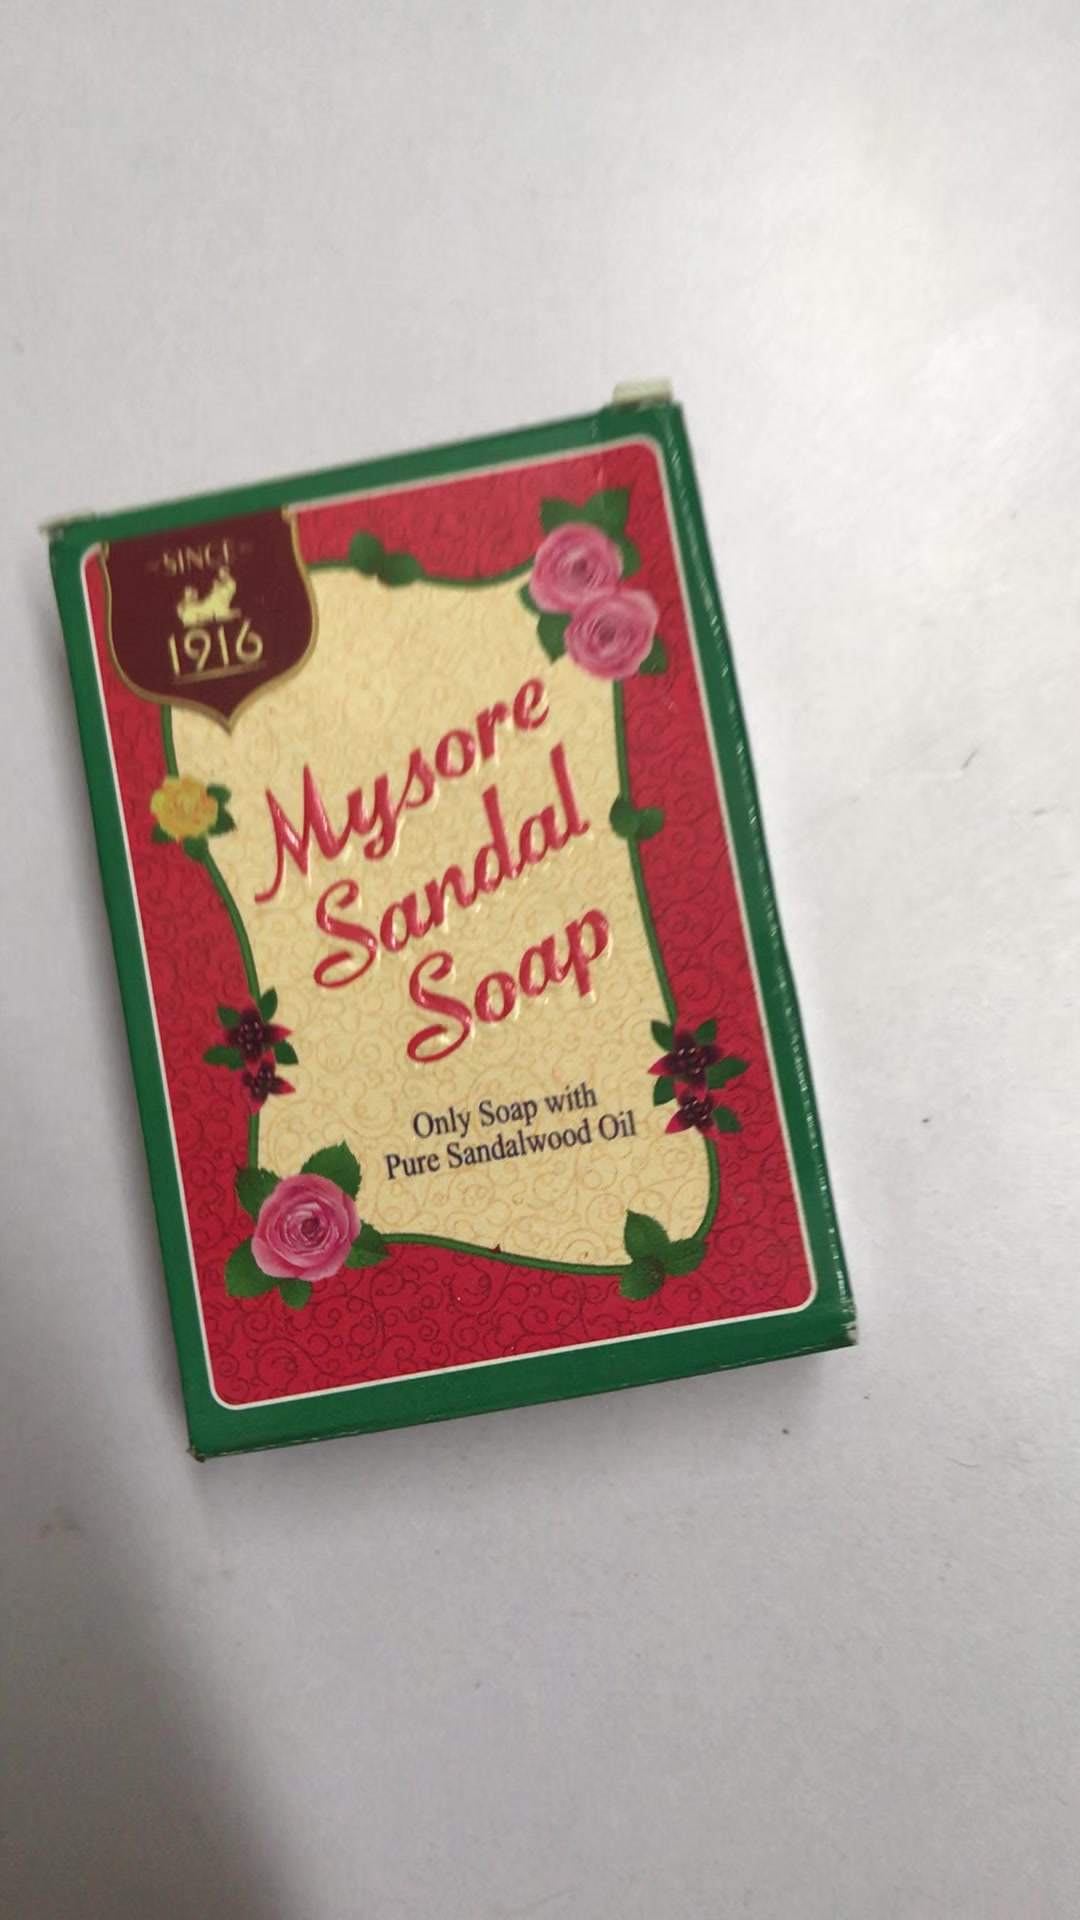mysore sandal soap: (55, 413, 857, 1452)
